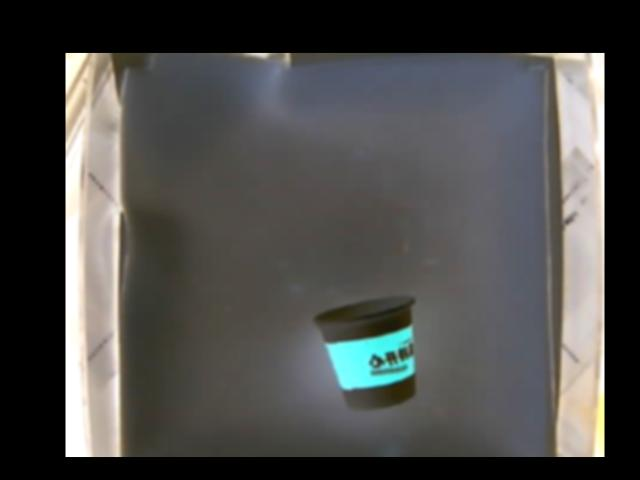Cup: (313, 292, 421, 409)
